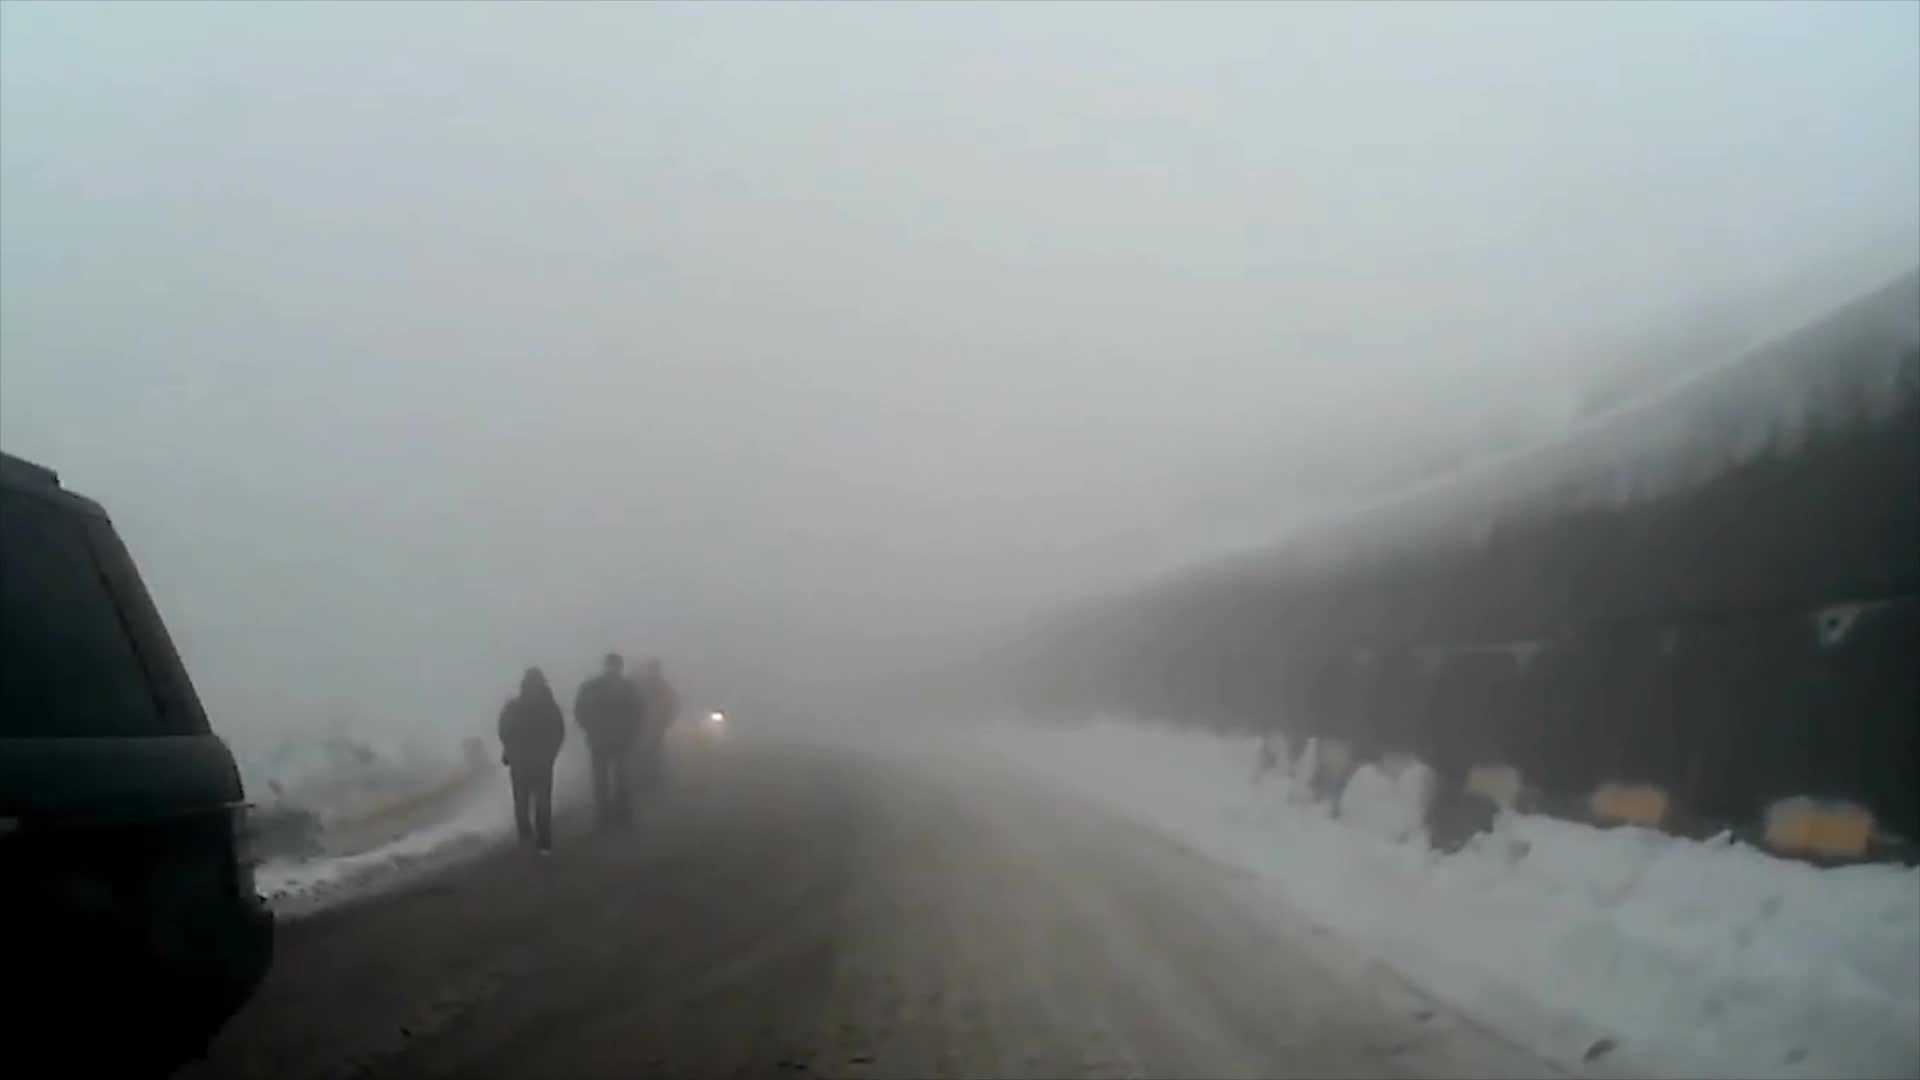pedestrian: (496, 670, 571, 857), (574, 651, 647, 832), (627, 655, 681, 820)
vehicle: (0, 433, 275, 1079)
